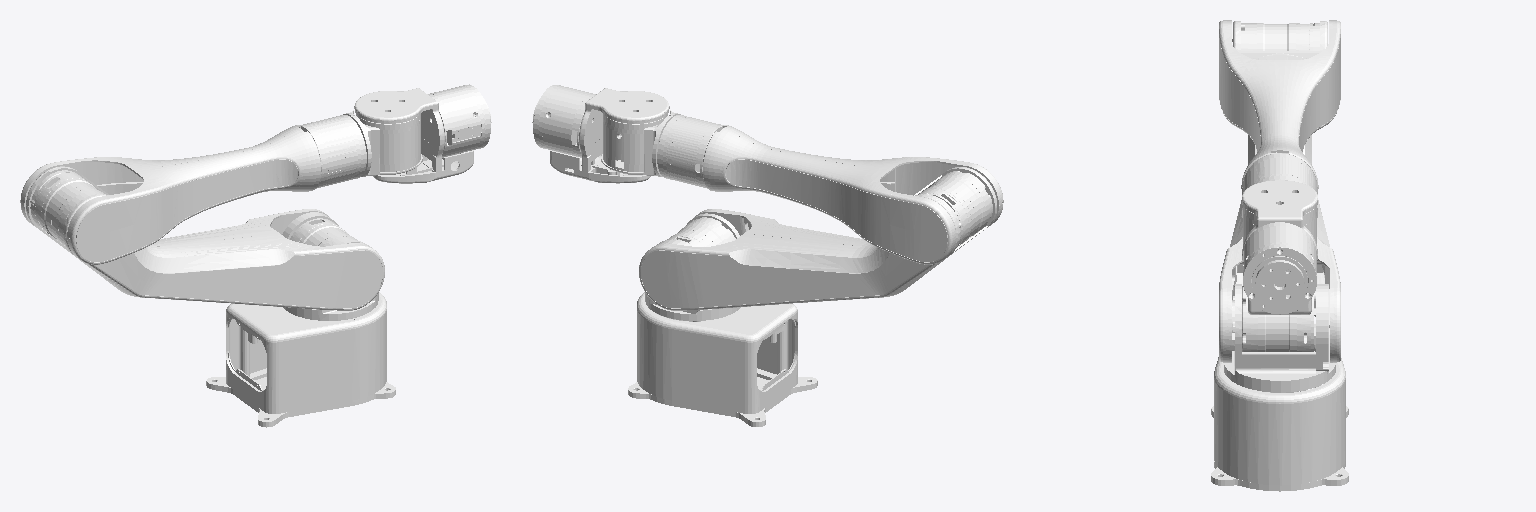
The robot description file, URDF, robot "00-disr-assy_asm":
<?xml version="1.0" encoding="utf-8"?>
<!-- This URDF was automatically created by SolidWorks to URDF Exporter! Originally created by [author] ([email redacted]) 
     Commit Version: 1.6.0-4-g7f85cfe  Build Version: 1.6.7995.38578
     For more information, please see http://wiki.ros.org/sw_urdf_exporter -->
<robot
  name="00-disr-assy_asm">
  <link
    name="base_link">
    <inertial>
      <origin
        xyz="-0.029112 -4.9618E-05 0.037384"
        rpy="0 0 0" />
      <mass
        value="0.15758" />
      <inertia
        ixx="0.00020705"
        ixy="1.1867E-06"
        ixz="2.8584E-06"
        iyy="0.00027968"
        iyz="2.2254E-06"
        izz="0.00038174" />
    </inertial>
    <visual>
      <origin
        xyz="0 0 0"
        rpy="0 0 0" />
      <geometry>
        <mesh
          filename="../meshes/base_link.STL" />
      </geometry>
      <material
        name="">
        <color
          rgba="1 1 1 1" />
      </material>
    </visual>
    <collision>
      <origin
        xyz="0 0 0"
        rpy="0 0 0" />
      <geometry>
        <mesh
          filename="../meshes/base_link.STL" />
      </geometry>
    </collision>
  </link>
  <link
    name="link1">
    <inertial>
      <origin
        xyz="3.6472E-06 -0.0049778 -0.0097341"
        rpy="0 0 0" />
      <mass
        value="0.10631" />
      <inertia
        ixx="4.2478E-05"
        ixy="-1.0356E-09"
        ixz="7.3521E-09"
        iyy="5.9445E-05"
        iyz="5.0371E-06"
        izz="5.3189E-05" />
    </inertial>
    <visual>
      <origin
        xyz="0 0 0"
        rpy="0 0 0" />
      <geometry>
        <mesh
          filename="../meshes/link1.STL" />
      </geometry>
      <material
        name="">
        <color
          rgba="1 1 1 1" />
      </material>
    </visual>
    <collision>
      <origin
        xyz="0 0 0"
        rpy="0 0 0" />
      <geometry>
        <mesh
          filename="../meshes/link1.STL" />
      </geometry>
    </collision>
  </link>
  <joint
    name="joint1"
    type="revolute">
    <origin
      xyz="0 2.4795E-05 0.117"
      rpy="0 0 0" />
    <parent
      link="base_link" />
    <child
      link="link1" />
    <axis
      xyz="0 0 1" />
    <limit
      lower="-10"
      upper="10"
      effort="100"
      velocity="110" />
  </joint>
  <link
    name="link2">
    <inertial>
      <origin
        xyz="0.16303 0.01241 0.0045681"
        rpy="0 0 0" />
      <mass
        value="0.2275" />
      <inertia
        ixx="0.00011733"
        ixy="-7.1761E-05"
        ixz="1.7806E-05"
        iyy="0.0014114"
        iyz="2.8994E-06"
        izz="0.0014746" />
    </inertial>
    <visual>
      <origin
        xyz="0 0 0"
        rpy="0 0 0" />
      <geometry>
        <mesh
          filename="../meshes/link2.STL" />
      </geometry>
      <material
        name="">
        <color
          rgba="1 1 1 1" />
      </material>
    </visual>
    <collision>
      <origin
        xyz="0 0 0"
        rpy="0 0 0" />
      <geometry>
        <mesh
          filename="../meshes/link2.STL" />
      </geometry>
    </collision>
  </link>
  <joint
    name="joint2"
    type="revolute">
    <origin
      xyz="0 0 0"
      rpy="-1.5708 -0.38673 3.1416" />
    <parent
      link="link1" />
    <child
      link="link2" />
    <axis
      xyz="0 0 1" />
    <limit
      lower="-10"
      upper="10"
      effort="100"
      velocity="110" />
  </joint>
  <link
    name="link3">
    <inertial>
      <origin
        xyz="0.00031865 -0.16931 -0.00094181"
        rpy="0 0 0" />
      <mass
        value="0.14117" />
      <inertia
        ixx="0.00041644"
        ixy="-4.7139E-07"
        ixz="-2.1254E-09"
        iyy="7.1543E-05"
        iyz="3.7878E-06"
        izz="0.00042197" />
    </inertial>
    <visual>
      <origin
        xyz="0 0 0"
        rpy="0 0 0" />
      <geometry>
        <mesh
          filename="../meshes/link3.STL" />
      </geometry>
      <material
        name="">
        <color
          rgba="1 1 1 1" />
      </material>
    </visual>
    <collision>
      <origin
        xyz="0 0 0"
        rpy="0 0 0" />
      <geometry>
        <mesh
          filename="../meshes/link3.STL" />
      </geometry>
    </collision>
  </link>
  <joint
    name="joint3"
    type="revolute">
    <origin
      xyz="0.27009 0 0"
      rpy="0 0 -1.1841" />
    <parent
      link="link2" />
    <child
      link="link3" />
    <axis
      xyz="0 0 1" />
    <limit
      lower="-10"
      upper="10"
      effort="100"
      velocity="110" />
  </joint>
  <link
    name="link4">
    <inertial>
      <origin
        xyz="-0.0051834 0.00019368 -0.0082929"
        rpy="0 0 0" />
      <mass
        value="0.057816" />
      <inertia
        ixx="3.2684E-05"
        ixy="-2.4663E-09"
        ixz="5.0516E-06"
        iyy="2.5781E-05"
        iyz="-1.1525E-09"
        izz="2.1405E-05" />
    </inertial>
    <visual>
      <origin
        xyz="0 0 0"
        rpy="0 0 0" />
      <geometry>
        <mesh
          filename="../meshes/link4.STL" />
      </geometry>
      <material
        name="">
        <color
          rgba="1 1 1 1" />
      </material>
    </visual>
    <collision>
      <origin
        xyz="0 0 0"
        rpy="0 0 0" />
      <geometry>
        <mesh
          filename="../meshes/link4.STL" />
      </geometry>
    </collision>
  </link>
  <joint
    name="joint4"
    type="revolute">
    <origin
      xyz="0.0029191 -0.30866 0"
      rpy="1.5708 0 0" />
    <parent
      link="link3" />
    <child
      link="link4" />
    <axis
      xyz="0 0 1" />
    <limit
      lower="-10"
      upper="10"
      effort="100"
      velocity="110" />
  </joint>
  <link
    name="link5">
    <inertial>
      <origin
        xyz="-0.039982 -0.00063731 -0.0029755"
        rpy="0 0 0" />
      <mass
        value="0.071803" />
      <inertia
        ixx="3.5881E-05"
        ixy="-1.0415E-07"
        ixz="-6.6076E-06"
        iyy="3.823E-05"
        iyz="1.4119E-08"
        izz="3.7202E-05" />
    </inertial>
    <visual>
      <origin
        xyz="0 0 0"
        rpy="0 0 0" />
      <geometry>
        <mesh
          filename="../meshes/link5.STL" />
      </geometry>
      <material
        name="">
        <color
          rgba="1 1 1 1" />
      </material>
    </visual>
    <collision>
      <origin
        xyz="0 0 0"
        rpy="0 0 0" />
      <geometry>
        <mesh
          filename="../meshes/link5.STL" />
      </geometry>
    </collision>
  </link>
  <joint
    name="joint5"
    type="revolute">
    <origin
      xyz="0 0 0"
      rpy="0 1.5708 0" />
    <parent
      link="link4" />
    <child
      link="link5" />
    <axis
      xyz="0 0 1" />
    <limit
      lower="-10"
      upper="10"
      effort="100"
      velocity="110" />
  </joint>
  <link
    name="link6">
    <inertial>
      <origin
        xyz="-2.3008E-11 3.2452E-12 -0.0024166"
        rpy="0 0 0" />
      <mass
        value="0.0026503" />
      <inertia
        ixx="3.2947E-07"
        ixy="3.5857E-16"
        ixz="1.0908E-16"
        iyy="3.2947E-07"
        iyz="2.3536E-16"
        izz="6.4653E-07" />
    </inertial>
    <visual>
      <origin
        xyz="0 0 0"
        rpy="0 0 0" />
      <geometry>
        <mesh
          filename="../meshes/link6.STL" />
      </geometry>
      <material
        name="">
        <color
          rgba="1 1 1 1" />
      </material>
    </visual>
    <collision>
      <origin
        xyz="0 0 0"
        rpy="0 0 0" />
      <geometry>
        <mesh
          filename="../meshes/link6.STL" />
      </geometry>
    </collision>
  </link>
  <joint
    name="joint6"
    type="revolute">
    <origin
      xyz="-0.0865 0 -0.002749"
      rpy="3.1416 -1.5708 0" />
    <parent
      link="link5" />
    <child
      link="link6" />
    <axis
      xyz="0 0 1" />
    <limit
      lower="-10"
      upper="10"
      effort="100"
      velocity="110" />
  </joint>
</robot>

--- What the picture shows (computed from the rendered views, not written in the file) ---
The picture shows the robot from 3 angles, left to right: view 1: azimuth 30°, elevation 25°; view 2: azimuth 150°, elevation 25°; view 3: azimuth 270°, elevation 25°; orthographic projection.
Robot: 00-disr-assy_asm — 7 links, 6 joints (6 revolute); root link base_link; default pose: all joints at 0.
Visible links, largest first — view 1: link2, link3, base_link, link5, link4, link1; view 2: link2, link3, base_link, link5, link4, link1; view 3: base_link, link3, link1, link2, link5, link6, link4.
Link boxes in pixels (<box>): link2: <box>26,166,384,310</box>; link3: <box>20,115,366,264</box>; base_link: <box>206,292,395,427</box>; link5: <box>354,84,490,183</box>; link4: <box>343,110,422,176</box>; link1: <box>282,212,378,320</box>; link2: <box>639,167,996,310</box>; link3: <box>657,115,1003,264</box>; base_link: <box>628,292,817,426</box>; link5: <box>533,85,669,183</box>; link4: <box>601,110,680,176</box>; link1: <box>645,213,740,320</box>; base_link: <box>1211,328,1348,491</box>; link3: <box>1219,20,1340,193</box>; link1: <box>1224,284,1335,392</box>; link2: <box>1219,21,1340,362</box>; link5: <box>1242,180,1317,314</box>; link6: <box>1252,256,1307,307</box>; link4: <box>1242,179,1317,259</box>.
Bounding box of the posed robot: 0.4302 × 0.1041 × 0.2503 m (x, y, z).
Meshes: 7 distinct files referenced, 7 mesh visuals loaded (7 binary STL).